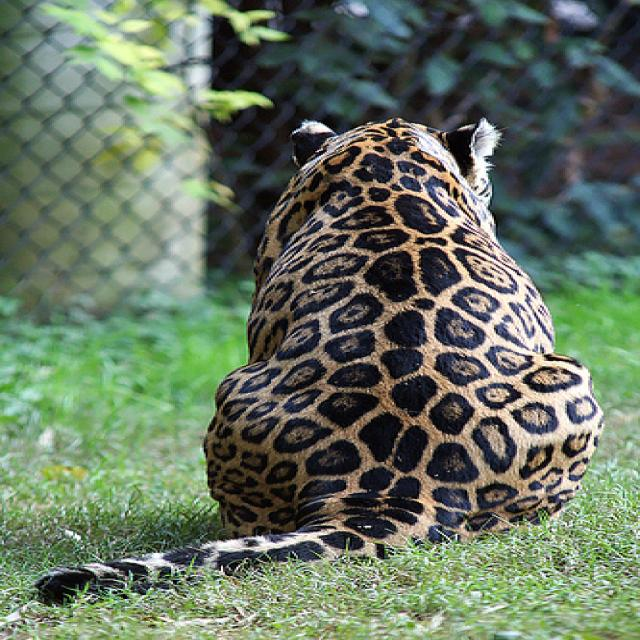Leopard: (29, 110, 601, 600)
